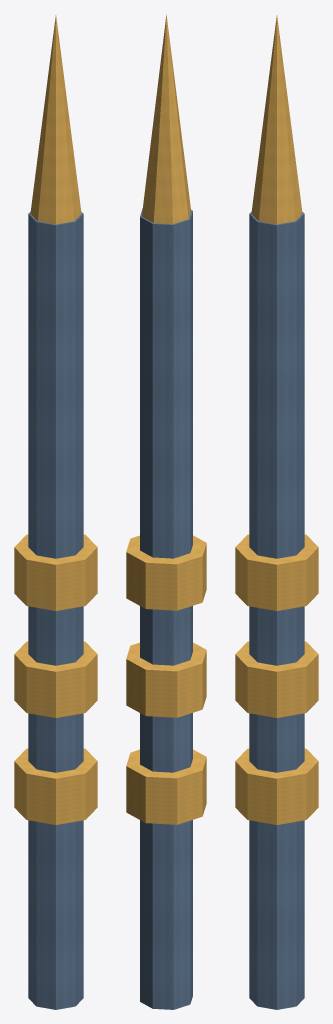
The model's file is atlas100-s051-a05.glb.
The picture shows the model from 3 angles, left to right: view 1: azimuth 90°, elevation 25°; view 2: azimuth 150°, elevation 25°; view 3: azimuth 270°, elevation 25°; orthographic projection.
Visible parts, largest first — view 1: atlas100-s051-a05:part-000, atlas100-s051-a05:part-004, atlas100-s051-a05:part-002, atlas100-s051-a05:part-003, atlas100-s051-a05:part-001; view 2: atlas100-s051-a05:part-000, atlas100-s051-a05:part-004, atlas100-s051-a05:part-001, atlas100-s051-a05:part-002, atlas100-s051-a05:part-003; view 3: atlas100-s051-a05:part-000, atlas100-s051-a05:part-004, atlas100-s051-a05:part-002, atlas100-s051-a05:part-003, atlas100-s051-a05:part-001.
Boxes of the visible parts, x1,y1,x2,y2 form: atlas100-s051-a05:part-000: (28,212,83,1009); atlas100-s051-a05:part-004: (30,15,81,224); atlas100-s051-a05:part-002: (14,641,97,717); atlas100-s051-a05:part-003: (14,534,97,610); atlas100-s051-a05:part-001: (14,748,97,824); atlas100-s051-a05:part-000: (140,208,192,1009); atlas100-s051-a05:part-004: (142,14,190,224); atlas100-s051-a05:part-001: (126,749,206,824); atlas100-s051-a05:part-002: (126,642,206,717); atlas100-s051-a05:part-003: (126,535,206,610); atlas100-s051-a05:part-000: (249,212,304,1009); atlas100-s051-a05:part-004: (251,15,302,224); atlas100-s051-a05:part-002: (235,641,318,717); atlas100-s051-a05:part-003: (235,534,318,610); atlas100-s051-a05:part-001: (235,748,318,824).
Size of the model in its own units: 0.1158 by 1.51 by 0.1158.
Materials: 2 (2 with a texture image).
